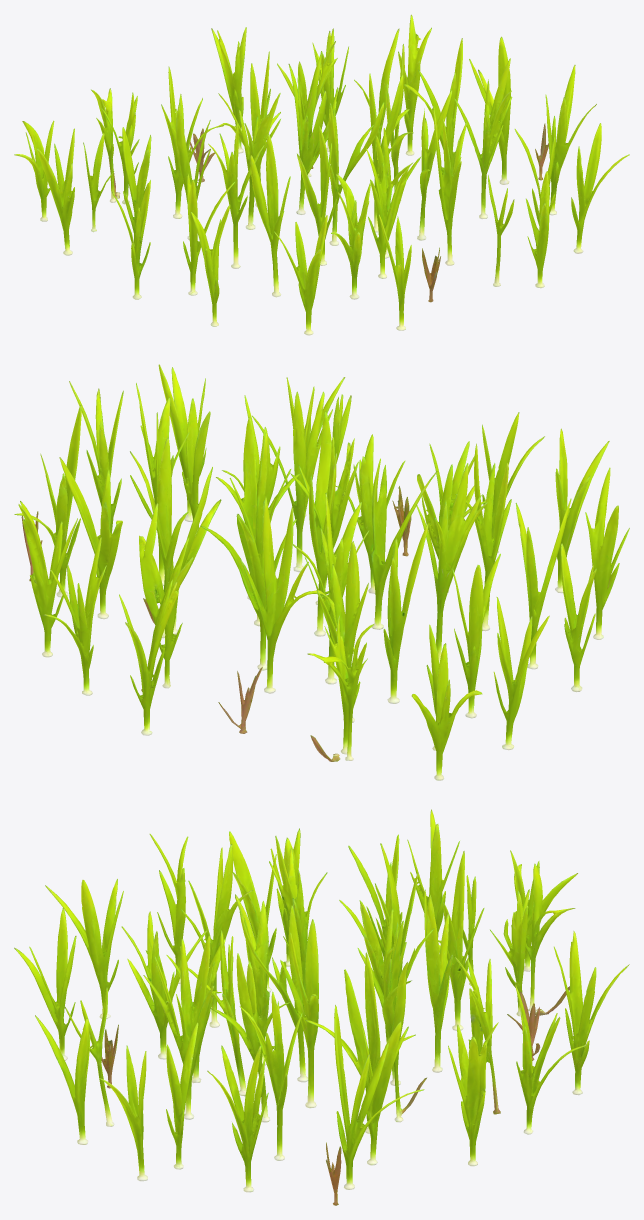
File: rice-stage-1.glb
The picture shows the model from 3 angles, top to bottom: view 1: azimuth 30°, elevation 25°; view 2: azimuth 150°, elevation 25°; view 3: azimuth 270°, elevation 25°; orthographic projection. The views are drawn at different scales.
Visible parts, largest first — view 1: Mesh_0; view 2: Mesh_0; view 3: Mesh_0.
Part boxes in pixels (box(x1,y1,x2,y2)): Mesh_0: box(14, 14, 629, 335); Mesh_0: box(14, 364, 629, 780); Mesh_0: box(14, 809, 629, 1205).
Size of the model in its own units: 0.7741 by 0.25 by 0.7578.
1 material, 1 textured.
